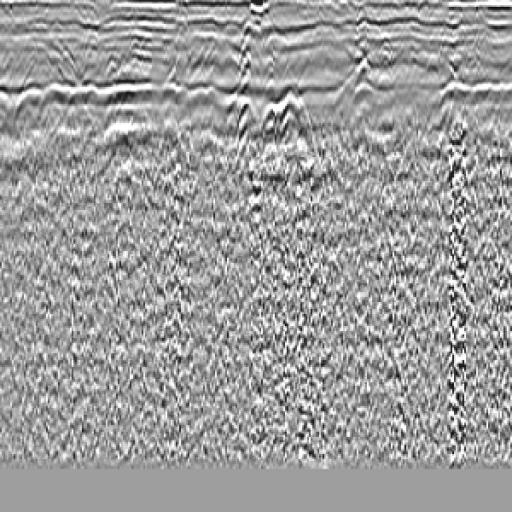metalic: (248, 55, 323, 283)
